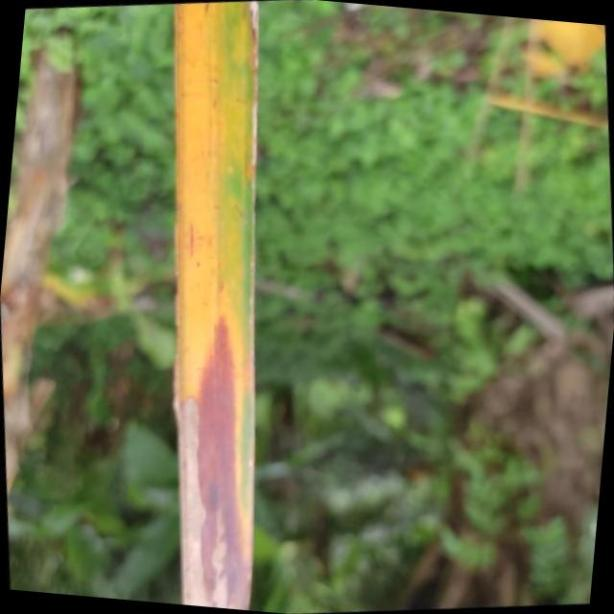Megnesium: (171, 0, 254, 614)
